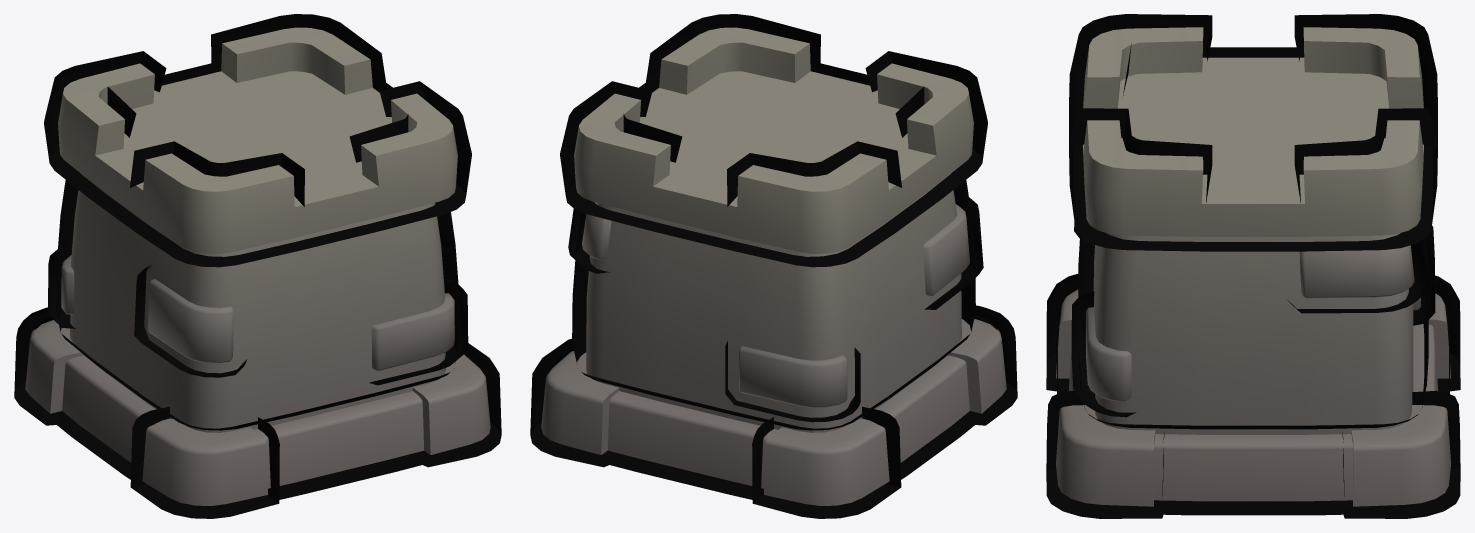
Rendered from mageTower_lvl2_backFaceMesh.fbx.
The picture shows the model from 3 angles, left to right: view 1: azimuth 30°, elevation 25°; view 2: azimuth 150°, elevation 25°; view 3: azimuth 270°, elevation 25°; orthographic projection. The views are drawn at different scales.
Parts seen in each view (by area): view 1: mageTower_lvl2, mageTower_lvl2.001; view 2: mageTower_lvl2, mageTower_lvl2.001; view 3: mageTower_lvl2, mageTower_lvl2.001.
Part boxes in pixels (bbox=[...]): mageTower_lvl2: bbox=[25, 27, 490, 505]; mageTower_lvl2.001: bbox=[14, 14, 501, 518]; mageTower_lvl2: bbox=[541, 27, 1006, 505]; mageTower_lvl2.001: bbox=[530, 14, 1017, 518]; mageTower_lvl2: bbox=[1056, 27, 1450, 506]; mageTower_lvl2.001: bbox=[1046, 14, 1460, 518].
Bounding box in the file's own units: 181 × 164 × 177.
